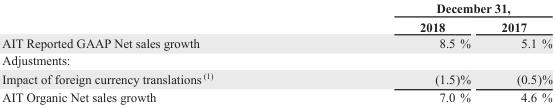table: (1, 0, 551, 103)
table column: (1, 0, 315, 103), (315, 0, 485, 103), (485, 0, 551, 103)
table column header: (1, 0, 551, 34)
table projected row header: (1, 51, 551, 68)
table row: (1, 68, 551, 87), (1, 0, 551, 17), (1, 17, 551, 34), (1, 34, 551, 51), (1, 51, 551, 68), (1, 87, 551, 103)
table spanning cell: (315, 0, 551, 17)
